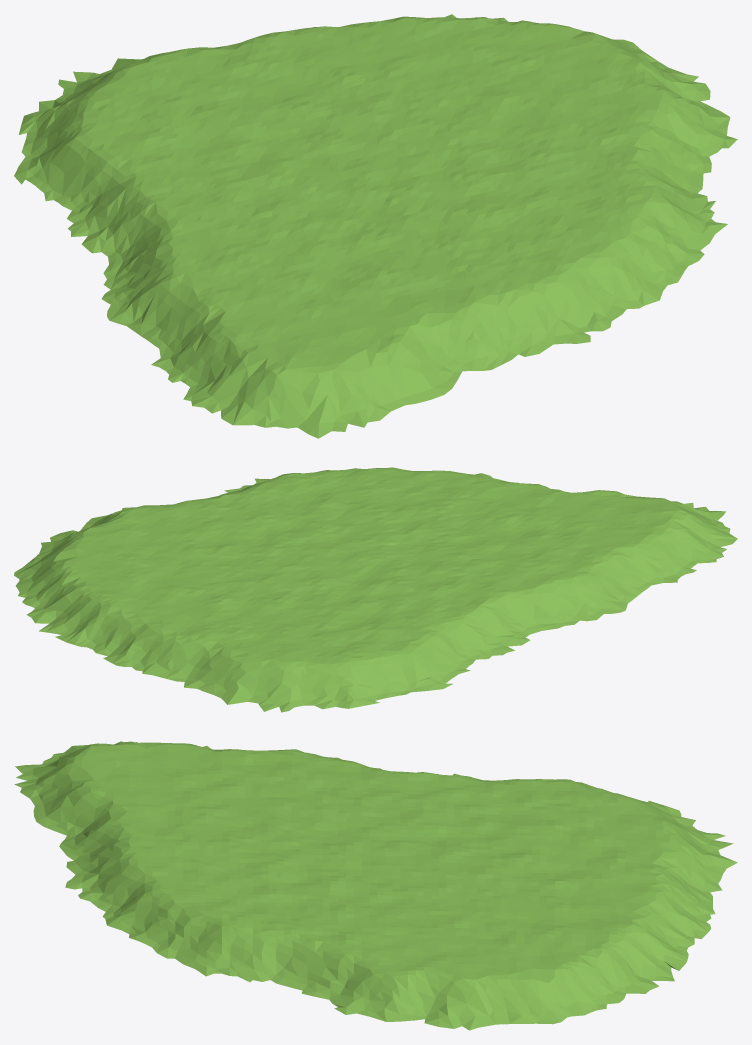
The model's file is MT_Island_H_a_04_LOD.fbx.
3 views of the same model, one above another, from view 1: azimuth 30°, elevation 25°; view 2: azimuth 150°, elevation 25°; view 3: azimuth 270°, elevation 25° (orthographic). The views are drawn at different scales.
Visible parts, largest first — view 1: MT_Island_H_a_04_LOD0; view 2: MT_Island_H_a_04_LOD0; view 3: MT_Island_H_a_04_LOD0.
Boxes of the visible parts, x1=… form: MT_Island_H_a_04_LOD0: x1=14, y1=14, x2=737, y2=438; MT_Island_H_a_04_LOD0: x1=14, y1=467, x2=737, y2=712; MT_Island_H_a_04_LOD0: x1=14, y1=741, x2=737, y2=1030.
Size of what is drawn, in the model's own units: 34656 by 1629 by 36779.
